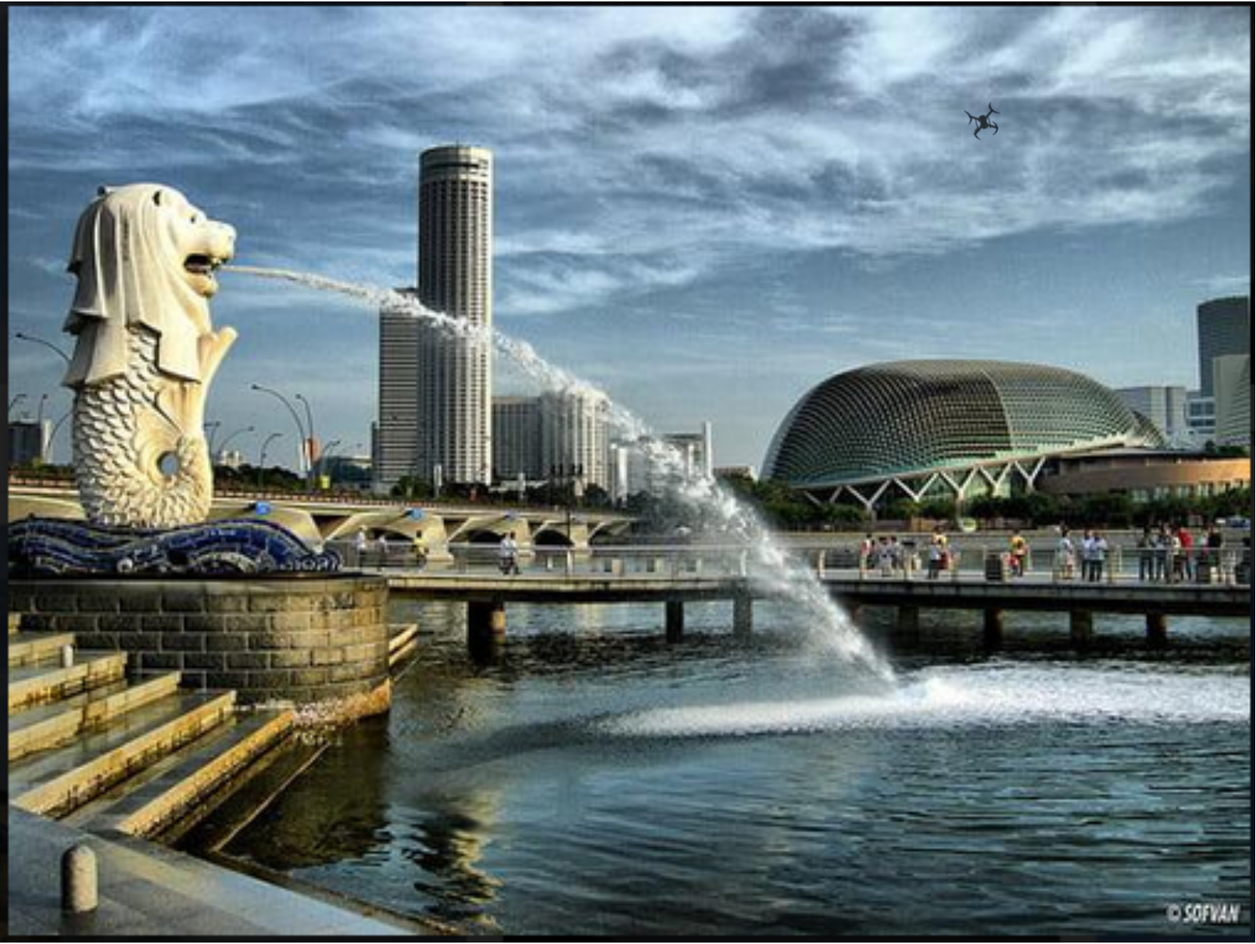drone_other: (960, 102, 1003, 141)
